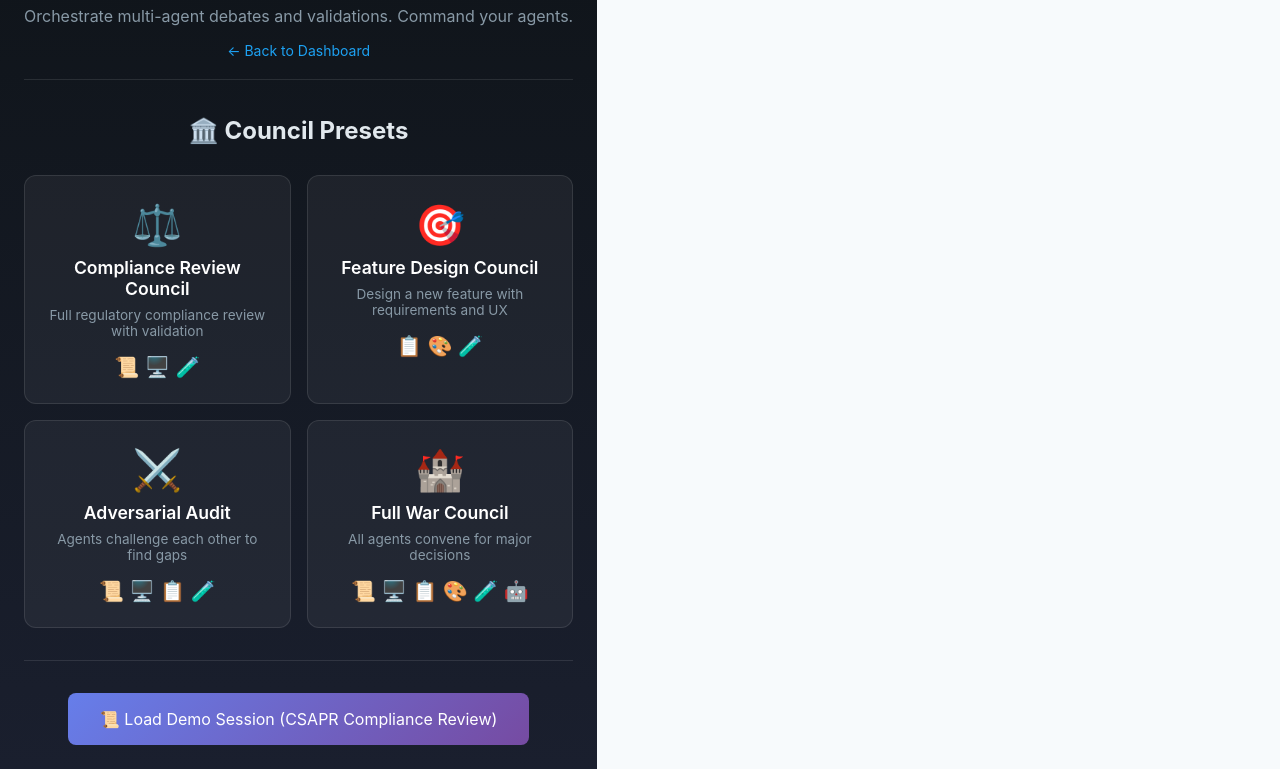
Test: Council › loads demo session when demo button clicked
(page scrolled)
What coordinates should you click on to do the following:
click the button "📜 Load Demo Session (CSAPR Compliance Review)"
I would click on:
 (299, 719)
Its box is [68,693,529,745].
(page scrolled)
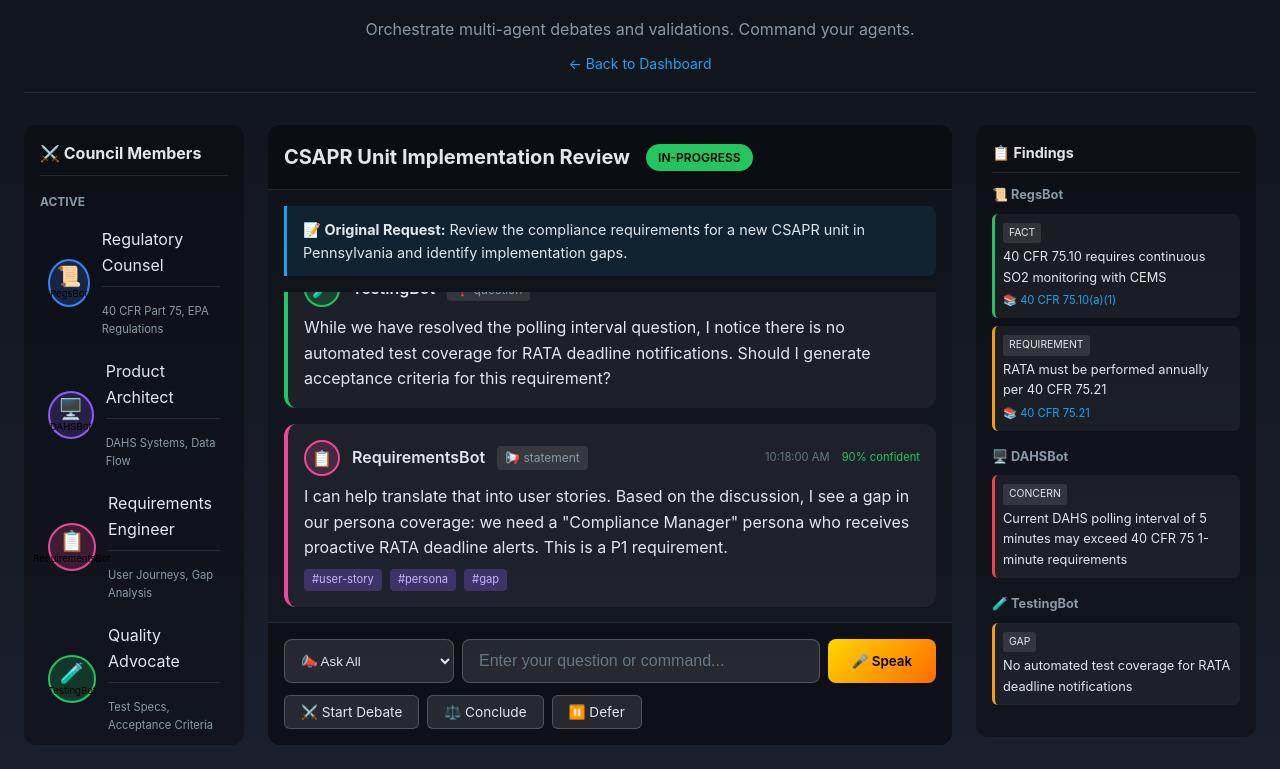
Expected: the heading "CSAPR Unit Implementation Review" is shown, [284,141,630,173]
Expected: the text "in-progress" is shown, [646,144,753,171]
